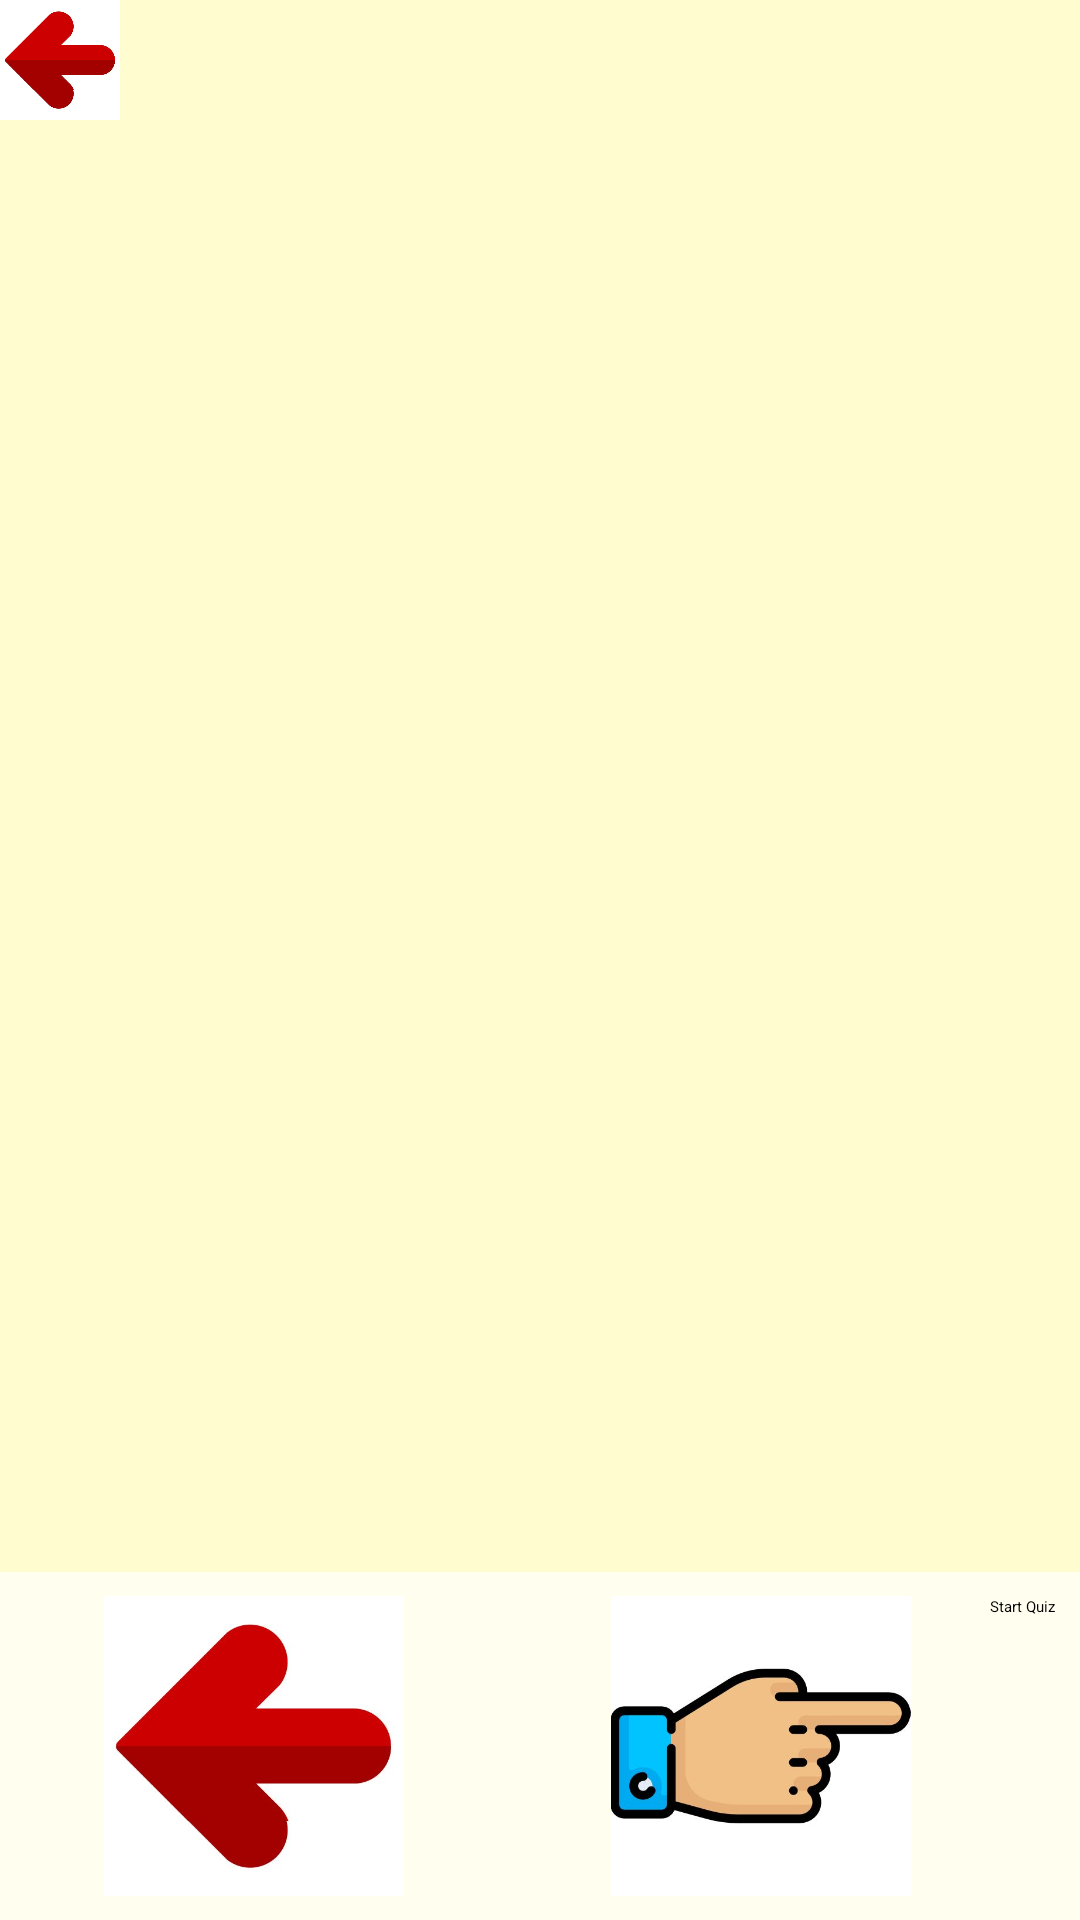

Named icons in this screenshot (1080*1920) and their bounding boxes, region(x1, y1, x2, y2):
backarrow: region(0, 0, 120, 120), region(104, 1596, 404, 1896)
